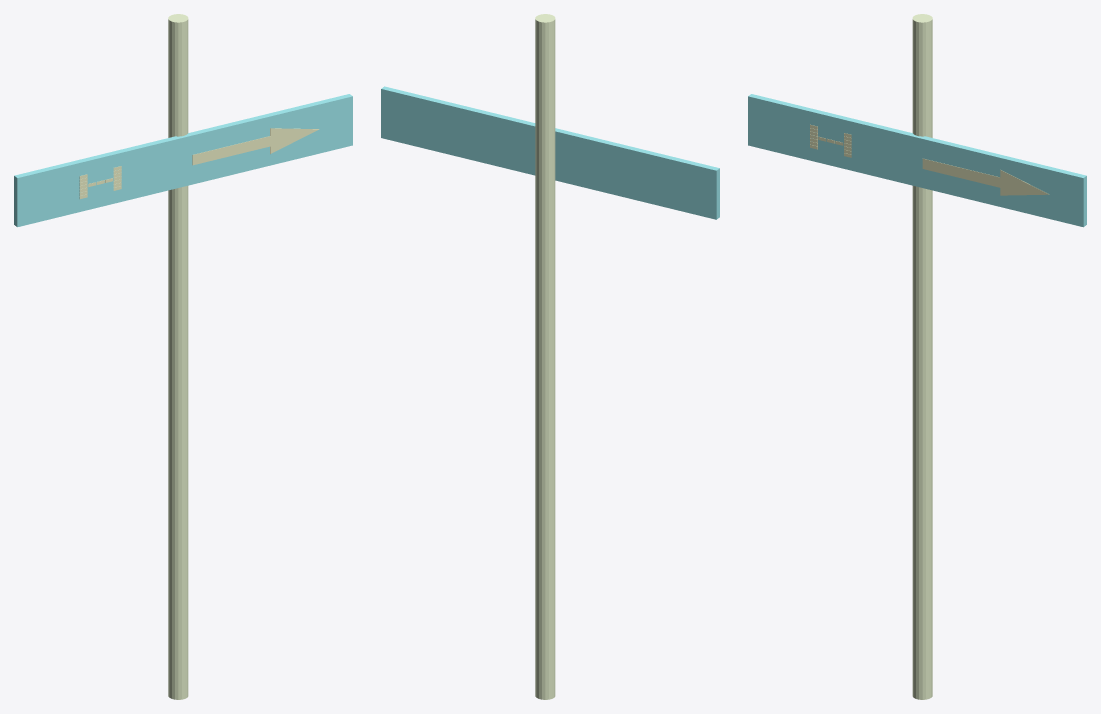
Rendered from sign_hospital_arrow_right.glb.
The picture shows the model from 3 angles, left to right: view 1: azimuth 30°, elevation 25°; view 2: azimuth 150°, elevation 25°; view 3: azimuth 330°, elevation 25°; orthographic projection.
Parts seen in each view (by area): view 1: plate_base_00, pole, layer_1_17, layer_1_18; view 2: plate_base_00, pole; view 3: plate_base_00, pole, layer_1_17, layer_1_18.
Boxes of the visible parts, <box> form: plate_base_00: <box>14,94,352,227</box>; pole: <box>168,14,188,699</box>; layer_1_17: <box>192,136,270,165</box>; layer_1_18: <box>270,128,319,153</box>; plate_base_00: <box>381,86,719,219</box>; pole: <box>535,14,555,699</box>; plate_base_00: <box>748,94,1086,227</box>; pole: <box>912,14,932,699</box>; layer_1_17: <box>922,158,1000,187</box>; layer_1_18: <box>1000,170,1049,195</box>.
Bounding box in the file's own units: 1.14 × 2.2 × 0.071.
